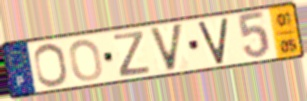5: (235, 9, 272, 62)
O: (32, 42, 71, 89), (67, 37, 105, 83)
V: (147, 21, 185, 74), (196, 15, 230, 66)
Z: (111, 29, 152, 79)
